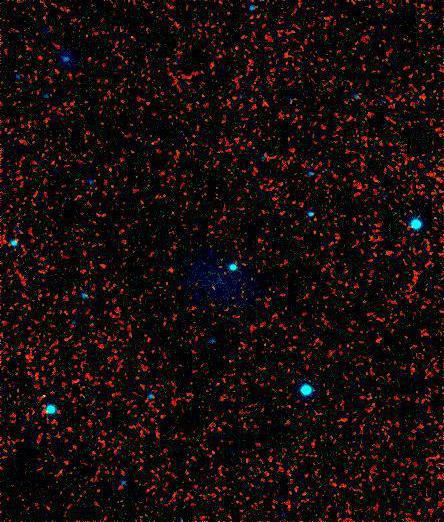star: (25, 379, 55, 409)
